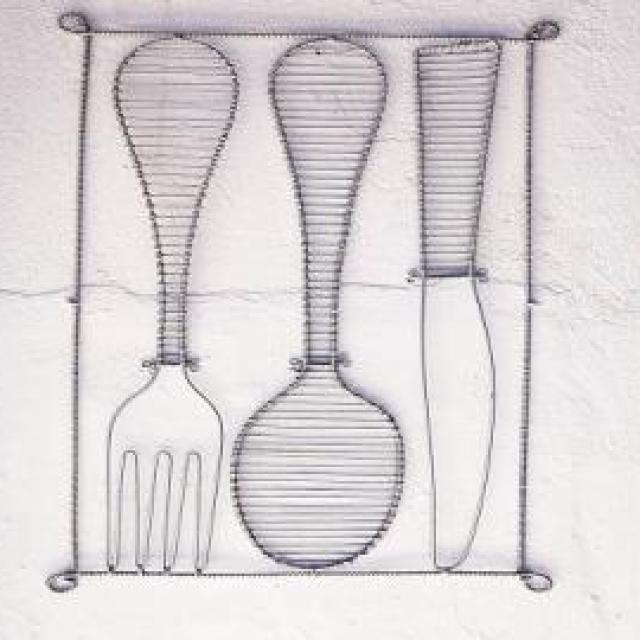knife: (405, 12, 500, 592)
